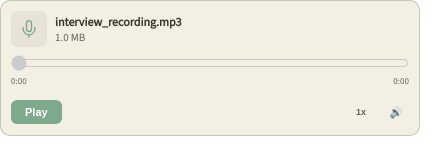
AudioAttachmentPlayer › cycles playback rate on click
This screenshot has width=437, height=160.
Click the button with test id "audio-rate-button": [361, 112] box [345,99,377,125]
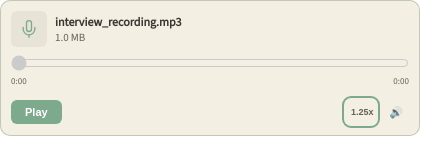
Expected: the button with test id "audio-rate-button" reads "1.25x"
Click the button with test id "audio-rate-button": [361, 112] box [345,99,377,125]
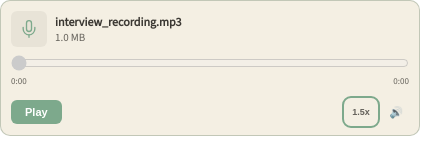
Expected: the button with test id "audio-rate-button" reads "1.5x"
Click the button with test id "audio-rate-button": [361, 112] box [345,99,377,125]
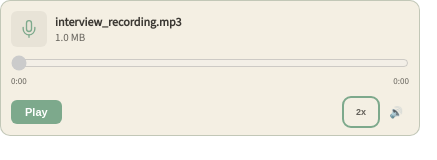
Expected: the button with test id "audio-rate-button" reads "2x"
Click the button with test id "audio-rate-button": [361, 112] box [345,99,377,125]
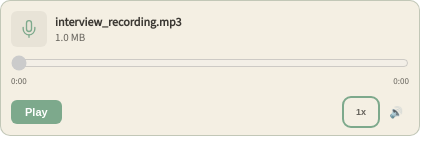
Expected: the button with test id "audio-rate-button" reads "1x", [345,99,377,125]
